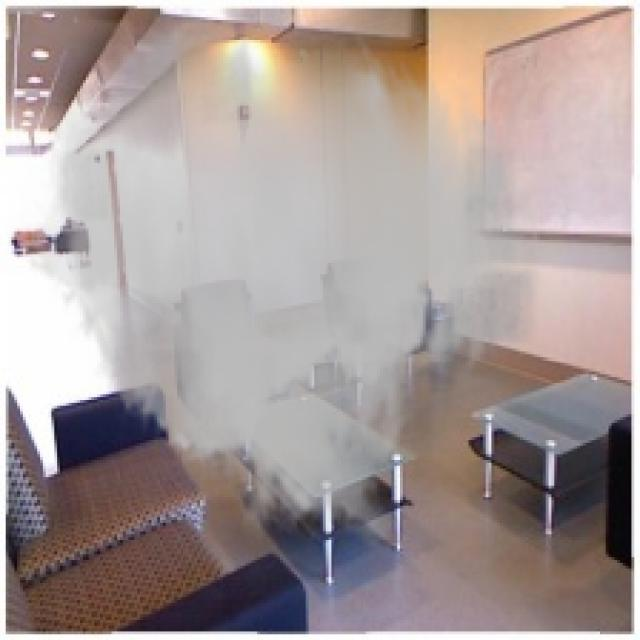smoke: (17, 14, 546, 552)
